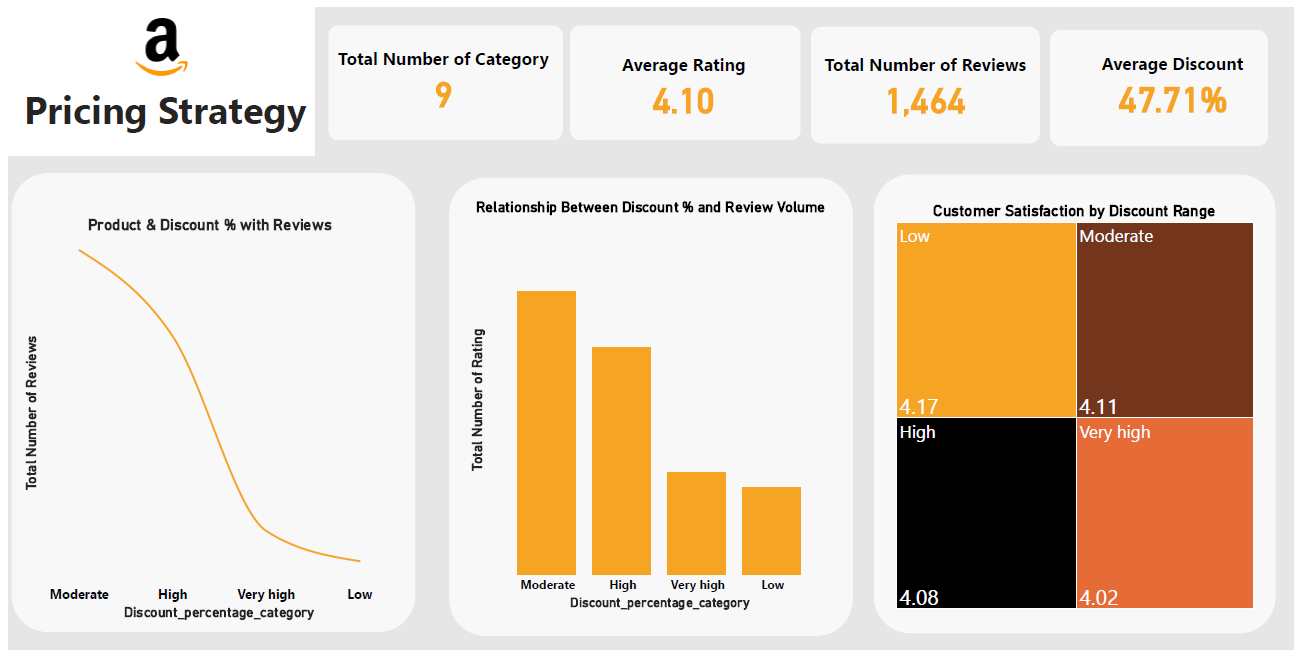

The dashboard page shown, as its layout file describes it:
{"tool":"powerbi","page":{"name":"Pricing Strategy","canvas":[2000,1000],"ordinal":1},"visuals":[{"type":"shape","box":[686,265.1,627.9,713],"z":0},{"type":"shape","box":[0,0,476.7,230.2],"z":1000},{"type":"shape","box":[4.7,258.1,627.9,714],"z":2000},{"type":"shape","box":[497.7,27.9,365.1,179.1],"z":3000},{"type":"shape","box":[874.4,27.9,358.1,179.1],"z":4000},{"type":"shape","box":[1248.8,30.2,355.8,181.4],"z":5000},{"type":"shape","box":[1346.5,260.5,625.6,714],"z":6000},{"type":"shape","box":[1620.9,34.9,339.5,181.4],"z":7000},{"type":"cardVisual","fields":{"Data":["Amazon Sales.Total Number of Category"]},"box":[483.7,34.9,386,155.8],"z":8000},{"type":"cardVisual","fields":{"Data":["Amazon Sales.Average Rating"]},"box":[872.1,37.2,358.1,169.8],"z":9000},{"type":"cardVisual","fields":{"Data":["Amazon Sales.Total Number of Reviews"]},"box":[1248.8,34.9,355.8,174.4],"z":10000},{"type":"cardVisual","fields":{"Data":["Amazon Sales.Average Discount"]},"box":[1665.1,48.8,293,141.9],"z":11000},{"type":"image","box":[190.7,11.6,95.3,102.3],"z":12000},{"type":"columnChart","title":"Relationship Between Discount % and Review Volume","fields":{"Category":["Amazon Sales.Discount_percentage_category"],"Y":["Sum(Amazon Sales.rating)"]},"box":[711.6,297.7,576.7,644.2],"z":13000},{"type":"lineChart","title":"Product & Discount % with Reviews","fields":{"Category":["Amazon Sales.Discount_percentage_category"],"Y":["CountNonNull(Amazon Sales.review_content)"]},"box":[18.3,325,591.7,633.3],"z":14000},{"type":"treemap","title":"Customer Satisfaction by Discount Range","fields":{"Group":["Amazon Sales.Discount_percentage_category"],"Values":["Avg(Amazon Sales.rating)"]},"box":[1376.7,302.3,565.1,637.2],"z":15000},{"type":"textbox","box":[18.6,114,458.1,97.7],"z":16000}]}

Visuals, with their boxes in screenshot pixels (x1, y1, x2, y2), scaled from the page's 2000x1000 canvas onto the 1300x654 screenshot:
shape: x1=446, y1=173, x2=854, y2=640
shape: x1=0, y1=0, x2=310, y2=151
shape: x1=3, y1=169, x2=411, y2=636
shape: x1=324, y1=18, x2=561, y2=135
shape: x1=568, y1=18, x2=801, y2=135
shape: x1=812, y1=20, x2=1043, y2=138
shape: x1=875, y1=170, x2=1282, y2=637
shape: x1=1054, y1=23, x2=1274, y2=141
cardVisual - Amazon Sales.Total Number of Category: x1=314, y1=23, x2=565, y2=125
cardVisual - Amazon Sales.Average Rating: x1=567, y1=24, x2=800, y2=135
cardVisual - Amazon Sales.Total Number of Reviews: x1=812, y1=23, x2=1043, y2=137
cardVisual - Amazon Sales.Average Discount: x1=1082, y1=32, x2=1273, y2=125
image: x1=124, y1=8, x2=186, y2=74
"Relationship Between Discount % and Review Volume" columnChart: x1=463, y1=195, x2=837, y2=616
"Product & Discount % with Reviews" lineChart: x1=12, y1=213, x2=396, y2=627
"Customer Satisfaction by Discount Range" treemap: x1=895, y1=198, x2=1262, y2=614
textbox: x1=12, y1=75, x2=310, y2=138
